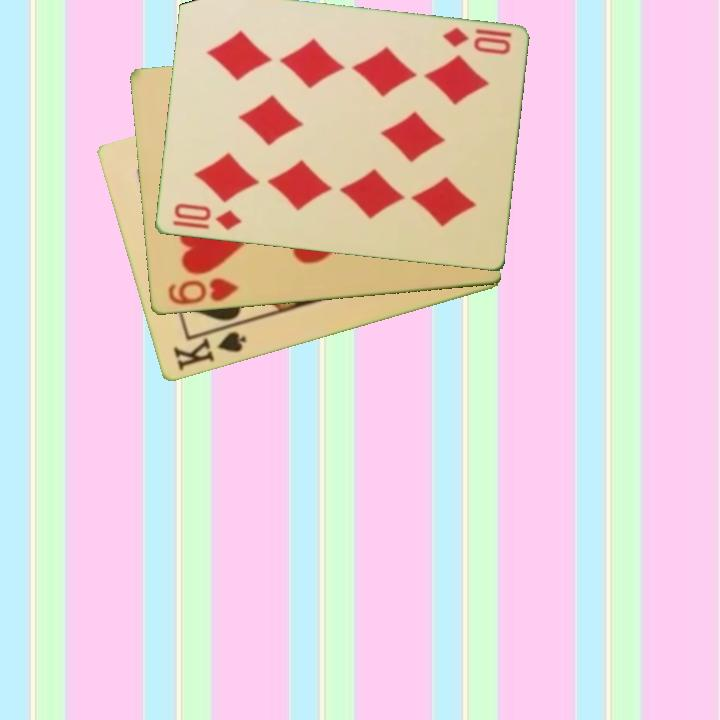10d: (170, 200, 244, 234), (439, 24, 513, 58)
6h: (164, 275, 241, 308)
Ks: (169, 328, 249, 374)
